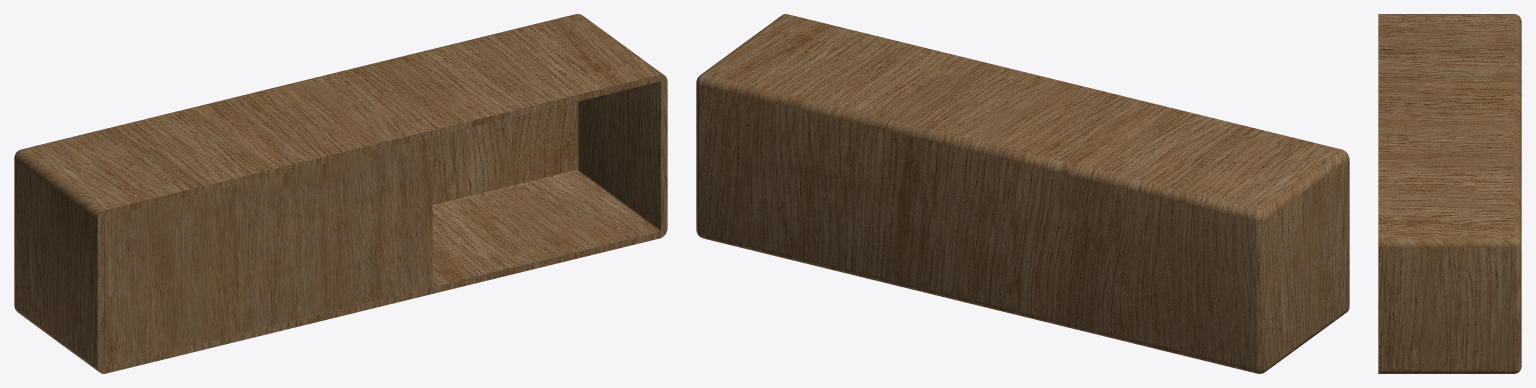
Rendered from wooden_wall_cabinet_with_sliding_door.glb.
3 renders of one model, left to right at view 1: azimuth 30°, elevation 25°; view 2: azimuth 150°, elevation 25°; view 3: azimuth 270°, elevation 25°, orthographic. The views are drawn at different scales.
Parts seen in each view (by area): view 1: Cube_0, Plane_1; view 2: Cube_0; view 3: Cube_0.
Boxes of the visible parts, x1,y1,x2,y2 form: Cube_0: (14, 14, 667, 373); Plane_1: (104, 137, 432, 366); Cube_0: (696, 14, 1349, 373); Cube_0: (1378, 14, 1521, 373).
Size of the model in its own units: 1.29 by 0.3536 by 0.339.
Materials: 1 (1 with a texture image).
